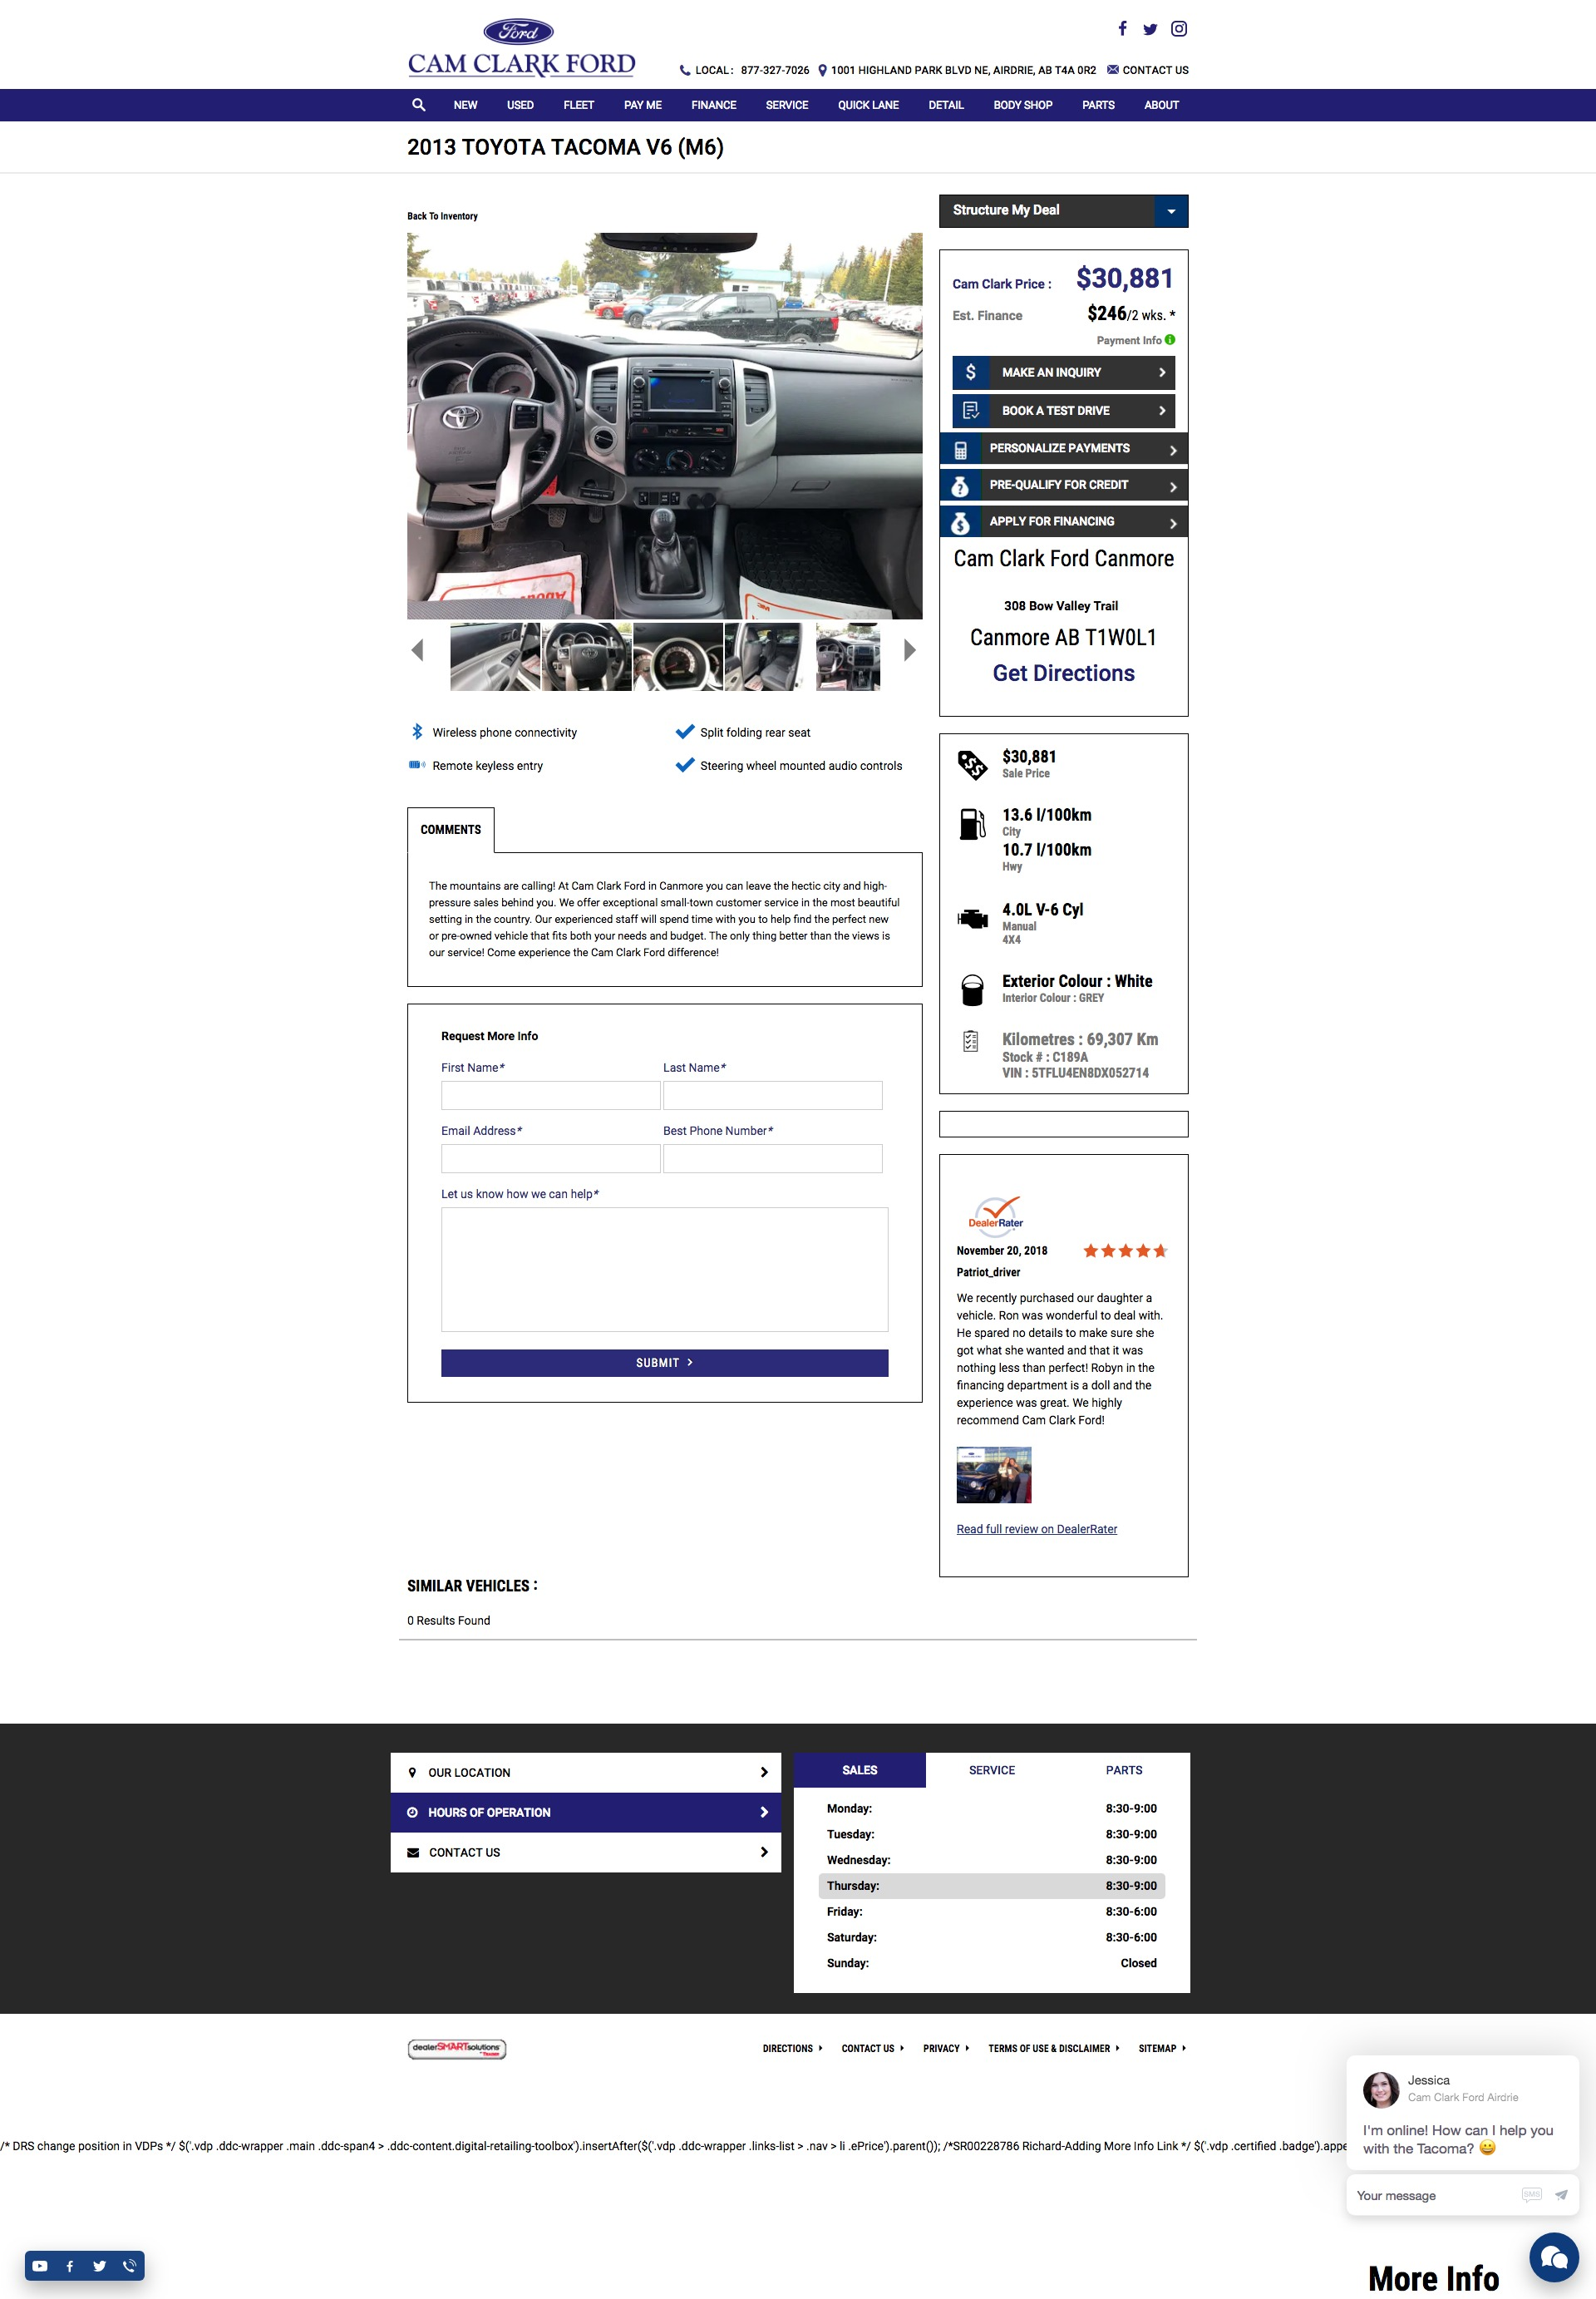car: (903, 639, 918, 664)
